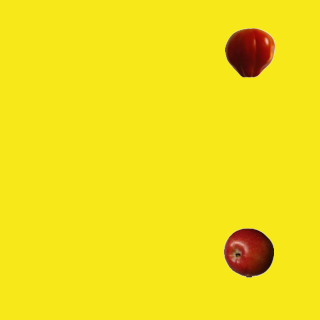Apple Braeburn: (223, 227, 273, 277)
Tomato 1: (224, 27, 274, 77)
